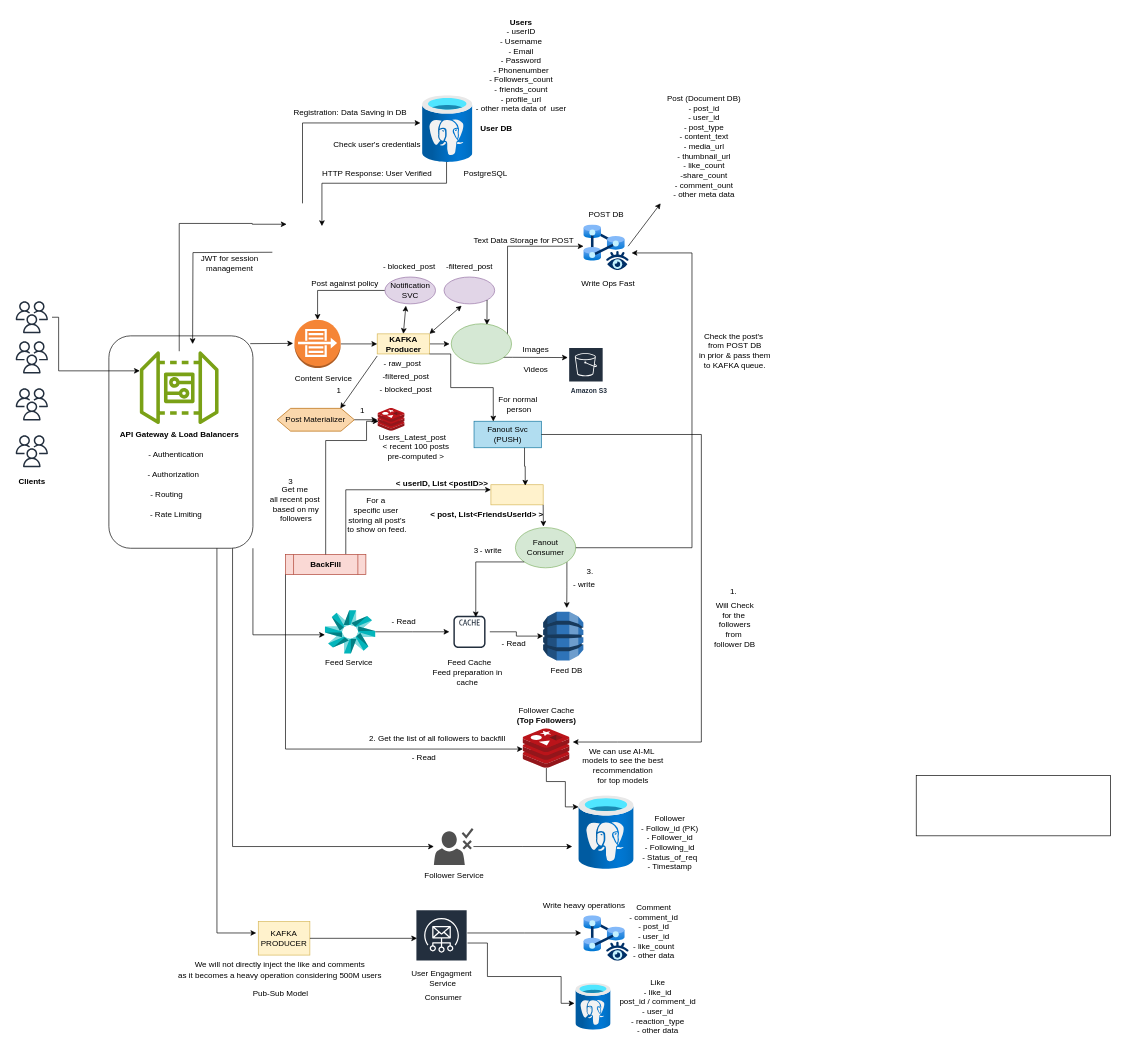
Some shapes in this 1122 by 1051 pixel diagram are drawn without their labels. Each missing label, with the centre of its shape:
23BCS10675: point (1013, 805)
KAFKA: point (516, 494)
Moderator SVC: point (469, 290)
Post Consumer SVC: point (481, 343)
